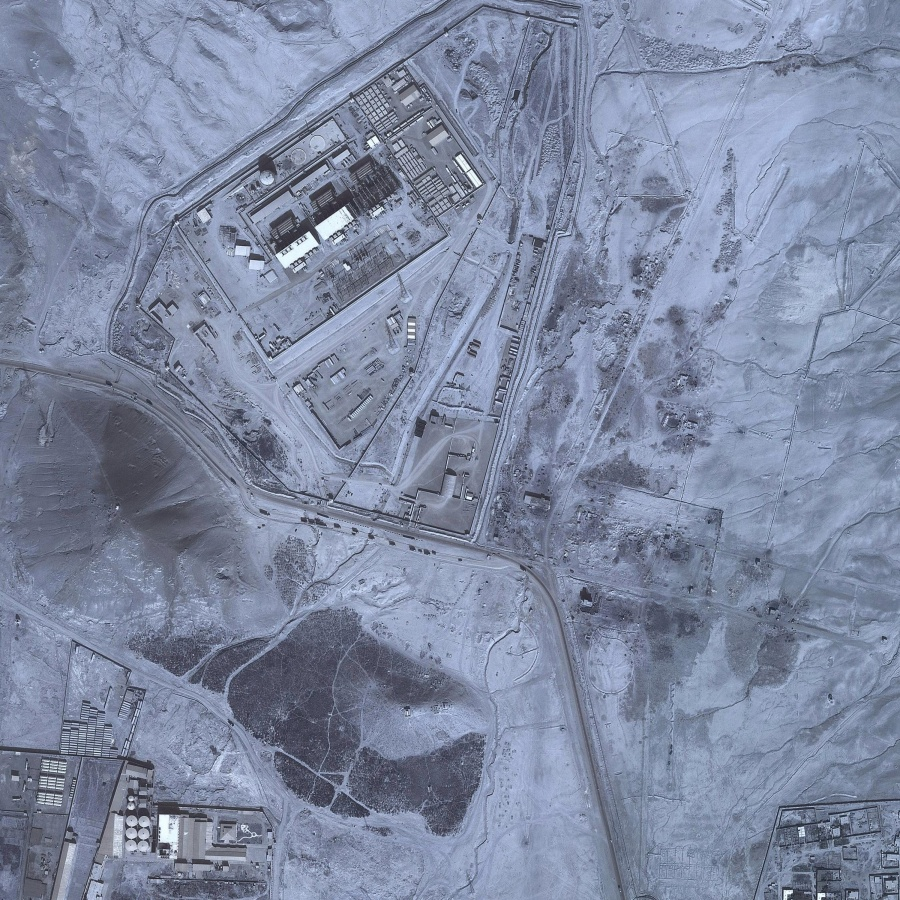PowerPlant: (232, 88, 482, 272)
